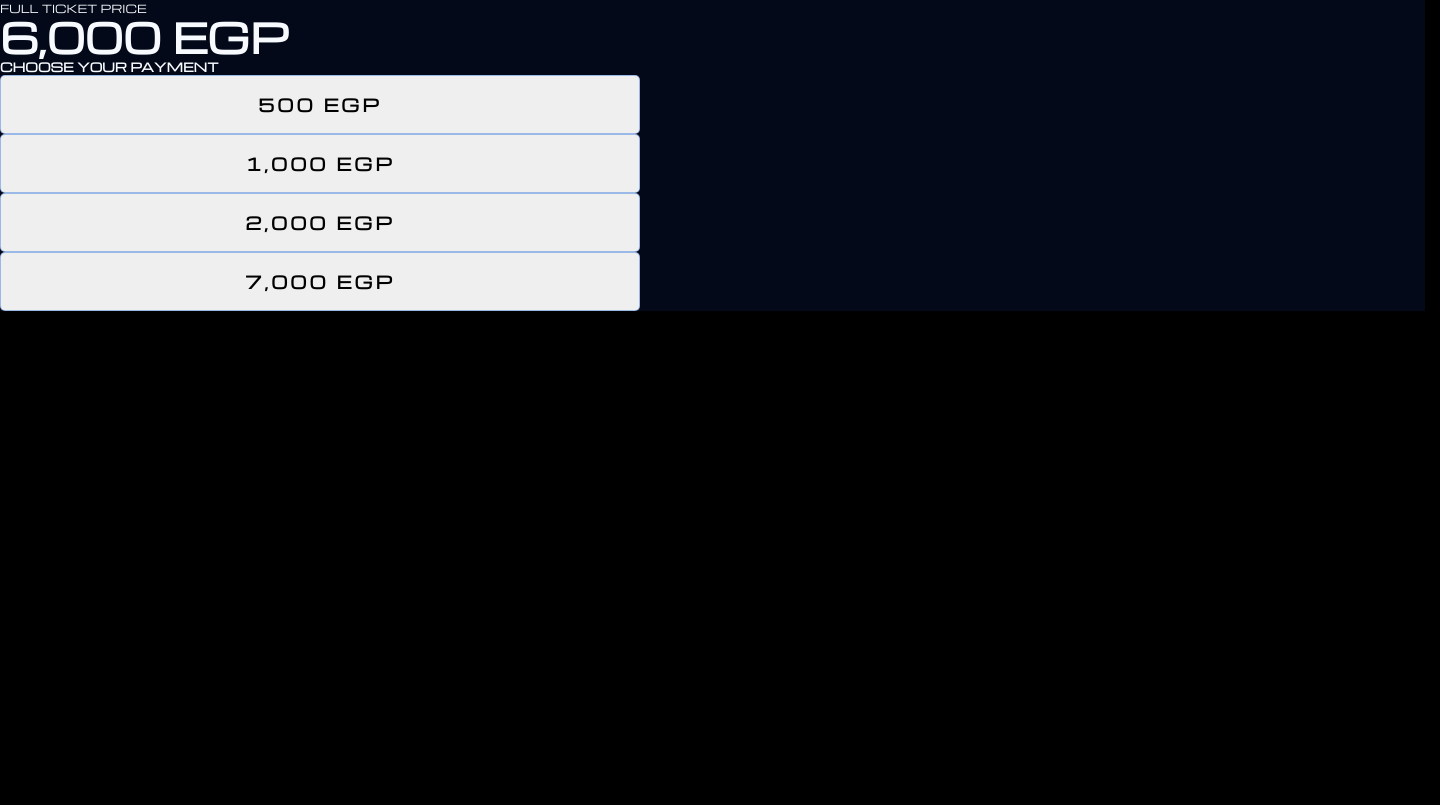
Scenario: InstaPay › no configured link (null) shows a clean unavailable state, never a fake URL
Click the radio button labelled "500 EGP" at (320, 104), box x1=0 y1=75 x2=640 y2=134
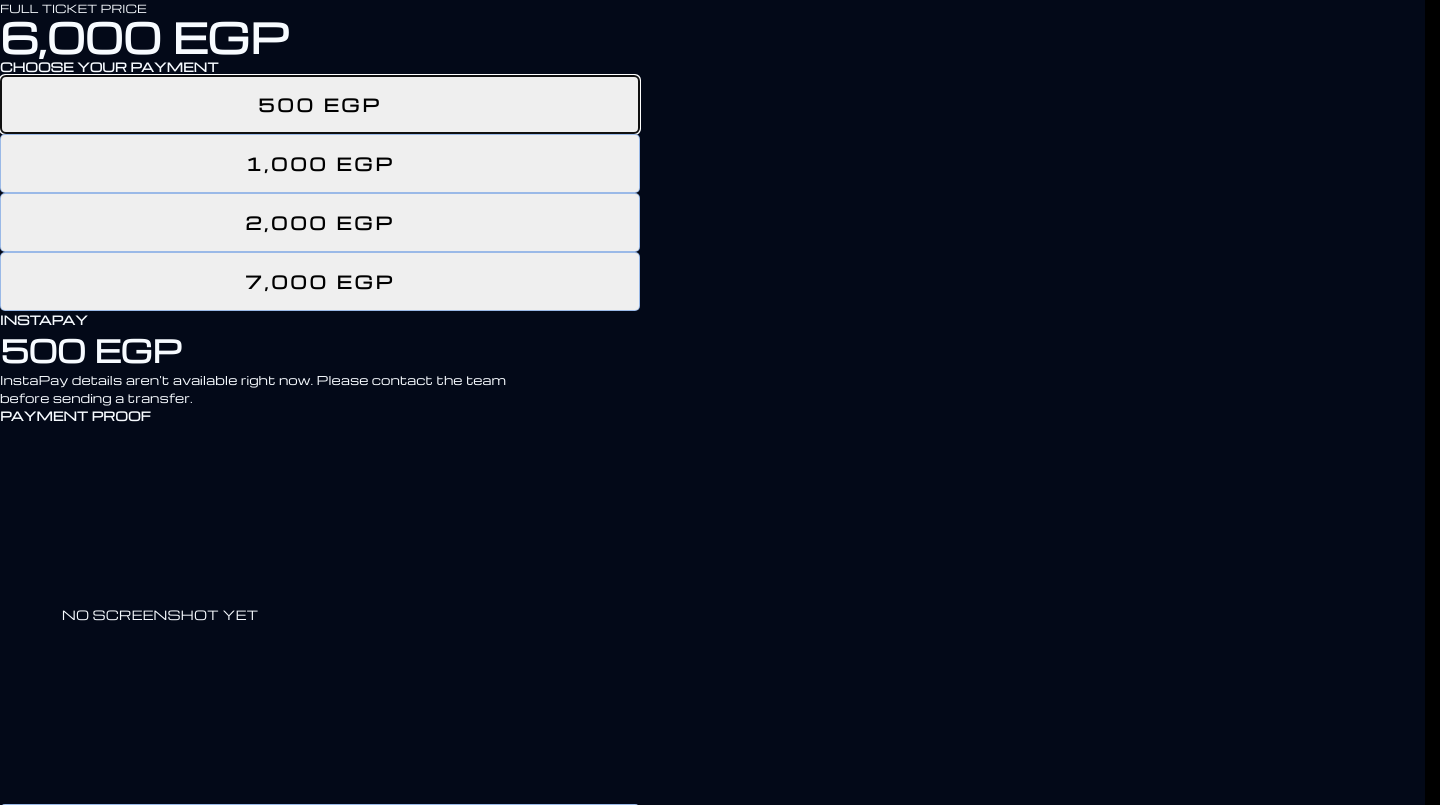
Check: the text "aren't available right now" is shown, box x1=0 y1=371 x2=506 y2=406
